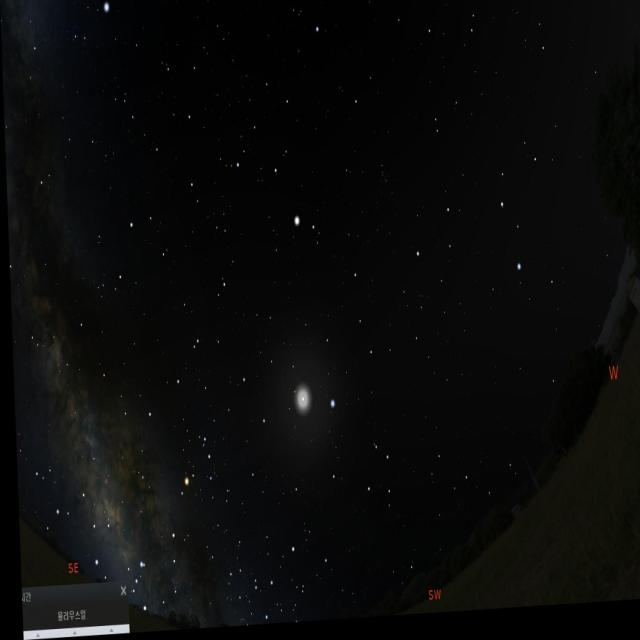bootes: (244, 81, 328, 255)
leo: (400, 140, 546, 320)
lyra: (67, 0, 117, 58)
moon: (274, 350, 319, 447)
scorpius: (120, 420, 220, 622)
